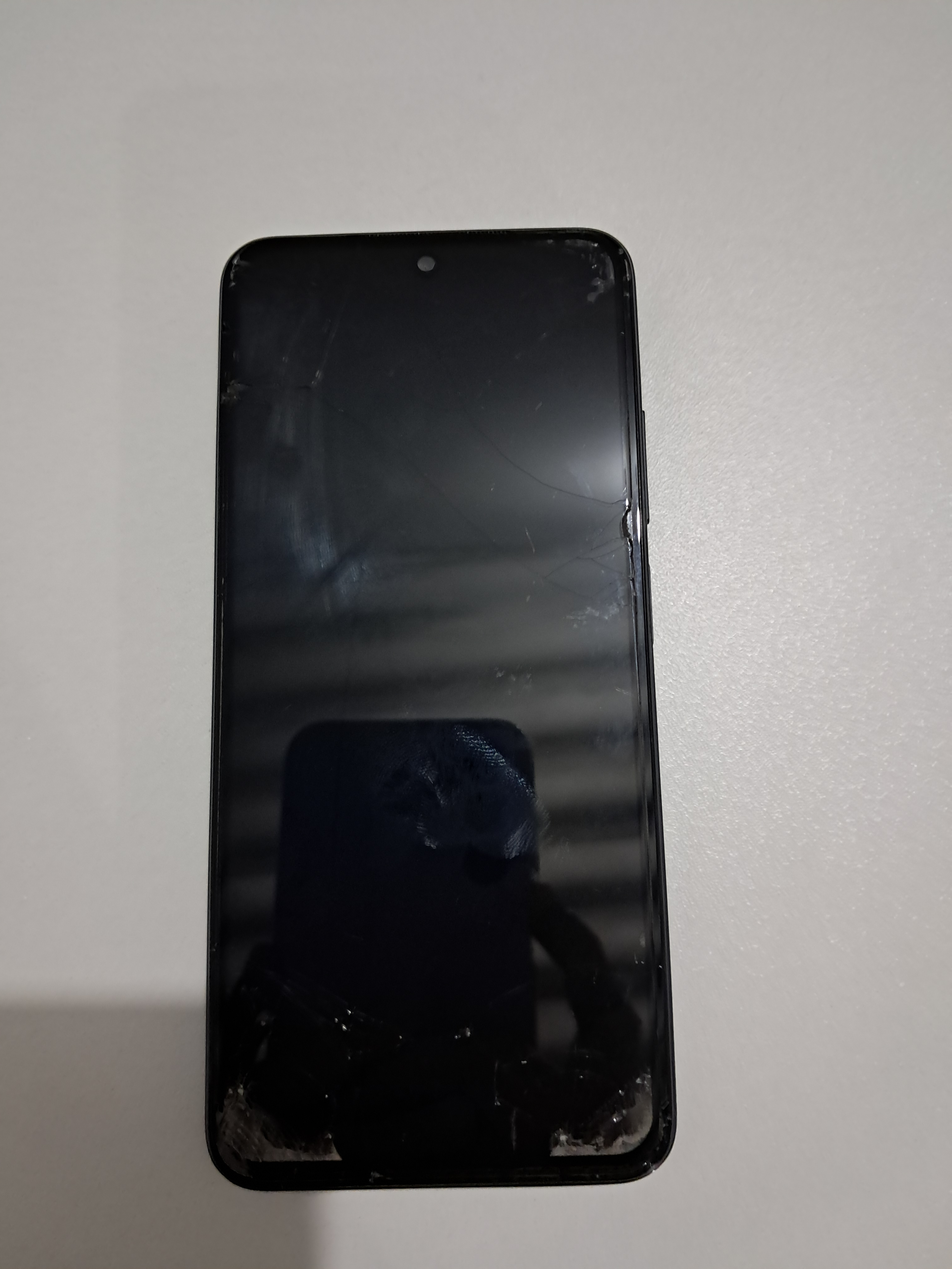phone: (206, 229, 674, 1189)
